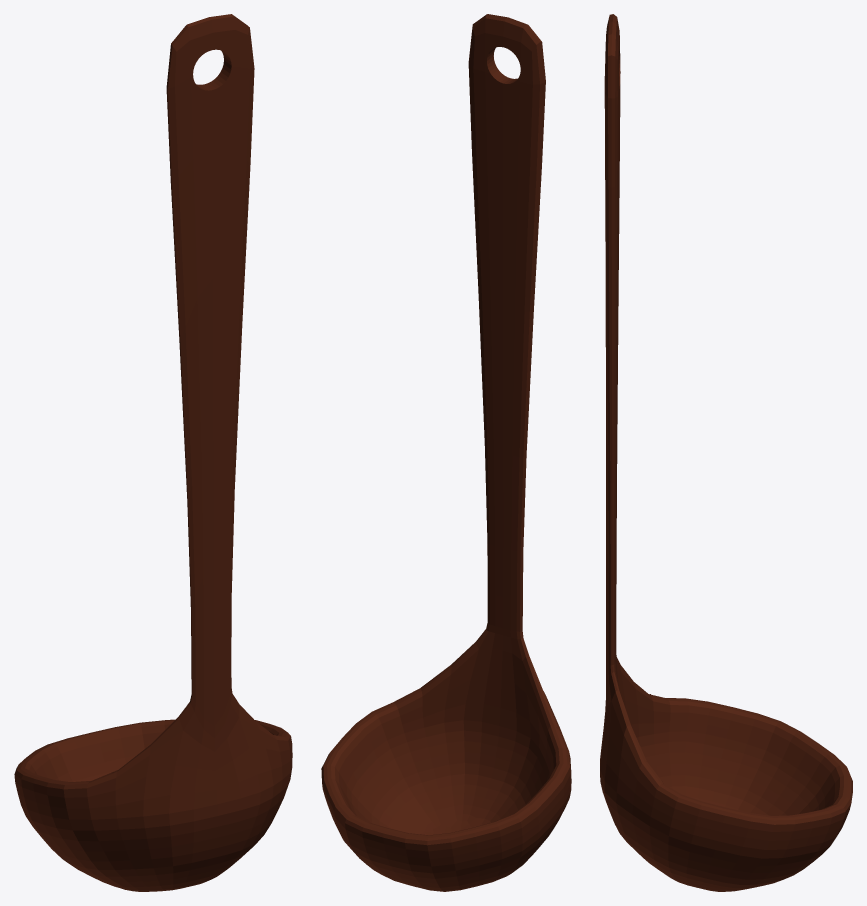
The model's file is louche.fbx.
3 views of the same model, side by side, from view 1: azimuth 30°, elevation 25°; view 2: azimuth 150°, elevation 25°; view 3: azimuth 270°, elevation 25° (orthographic). The views are drawn at different scales.
Parts seen in each view (by area): view 1: Sphere; view 2: Sphere; view 3: Sphere.
Boxes of the visible parts, <box> form: Sphere: <box>14,14,292,891</box>; Sphere: <box>321,14,571,891</box>; Sphere: <box>600,14,852,891</box>.
Size of the model in its own units: 193 by 712 by 191.
